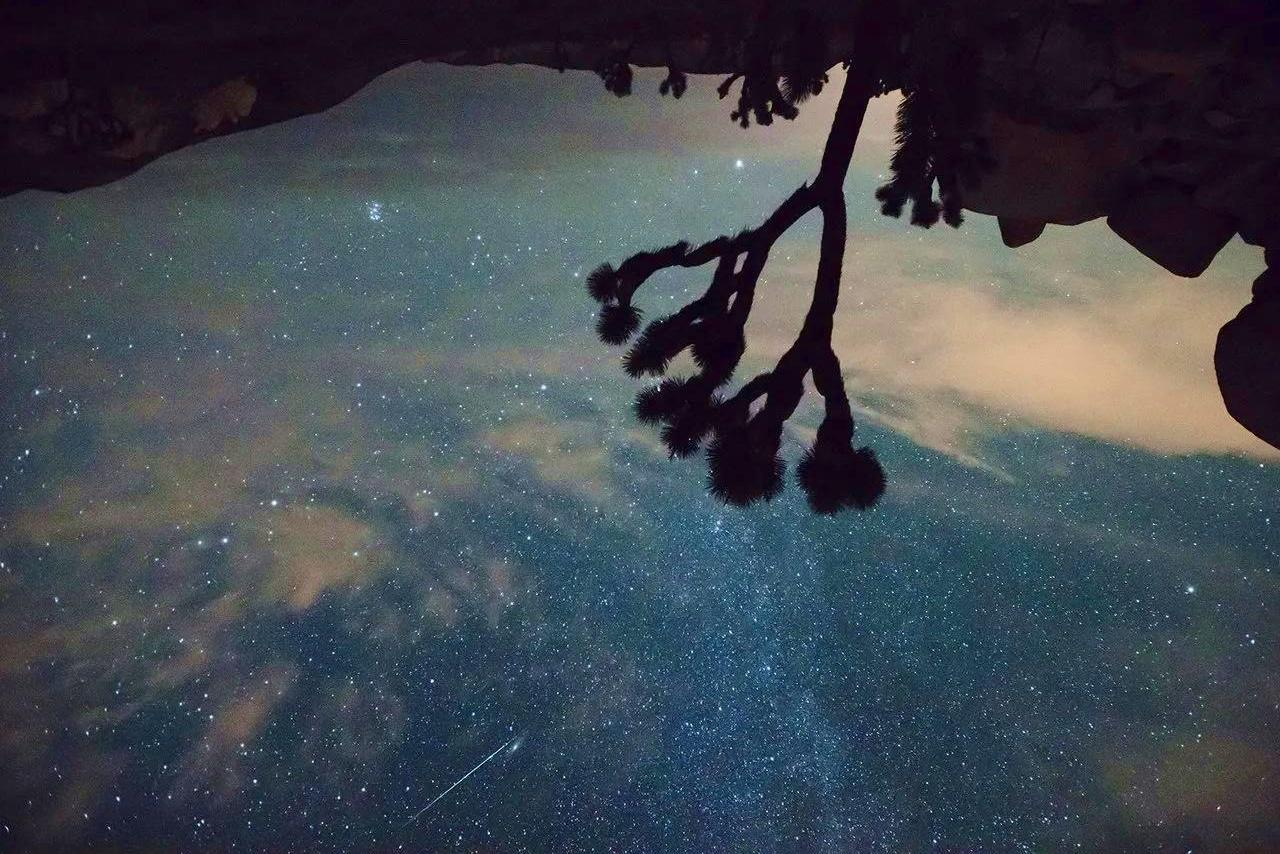meteorite: (367, 731, 540, 839)
